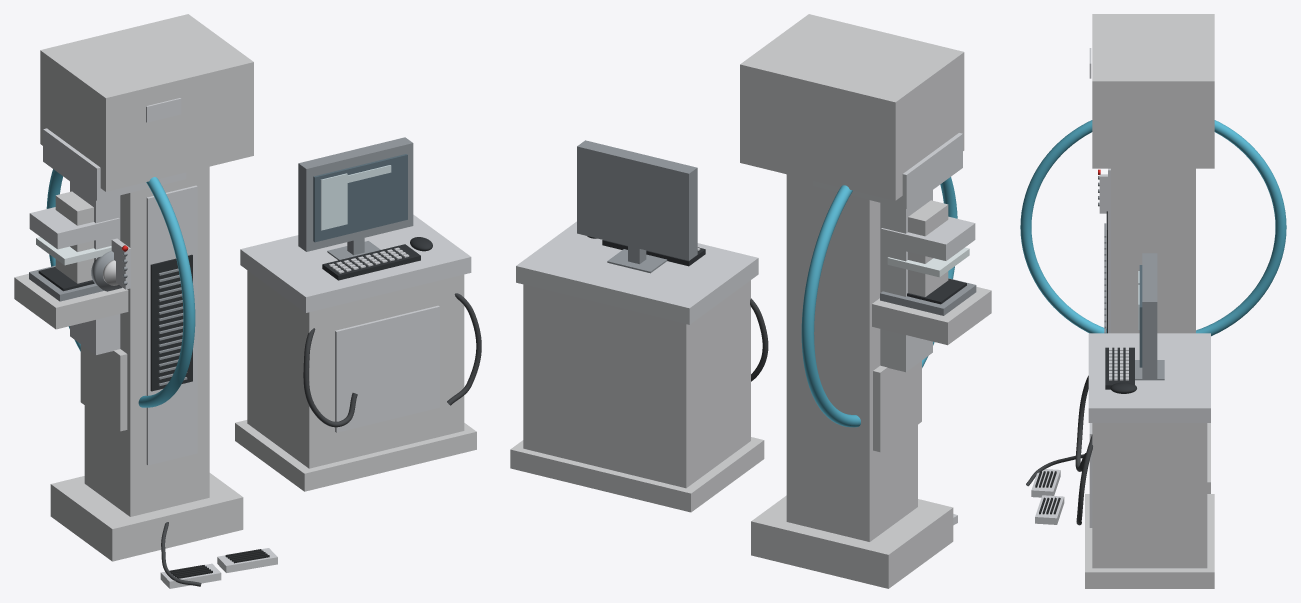
Rendered from mamography.glb.
3 views of the same model, side by side, from view 1: azimuth 30°, elevation 25°; view 2: azimuth 150°, elevation 25°; view 3: azimuth 270°, elevation 25° (orthographic). The views are drawn at different scales.
Visible parts, largest first — view 1: Upper X Ray Housing, Operator Console, Main Vertical Column, Console Front Panel, Console Desktop, Gantry Base, Rear Mechanical Panel, Console Base, Monitor Screen, Monitor Frame, Blue Support Arc, Arc Lower Cover (+15 smaller); view 2: Operator Console, Main Vertical Column, Upper X Ray Housing, Console Desktop, Monitor Frame, Gantry Base, Console Base, Blue Support Arc, Detector Vertical Arm, Breast Support Platform, Arc Lower Cover, X Ray Head Underside (+6 smaller); view 3: Upper X Ray Housing, Operator Console, Main Vertical Column, Console Desktop, Blue Support Arc, Console Base, Monitor Frame, Keyboard, Foot Pedal.001, Console Hanging Cable, Foot Pedal, Second Console Cable (+3 smaller).
Boxes of the visible parts, x1,y1,x2,y2 form: Upper X Ray Housing: [40, 14, 253, 191]; Operator Console: [247, 270, 464, 468]; Main Vertical Column: [84, 166, 209, 516]; Console Front Panel: [335, 305, 439, 432]; Console Desktop: [240, 214, 471, 312]; Gantry Base: [50, 473, 243, 561]; Rear Mechanical Panel: [146, 185, 197, 465]; Console Base: [235, 420, 476, 491]; Monitor Screen: [313, 154, 407, 242]; Monitor Frame: [298, 137, 413, 251]; Blue Support Arc: [46, 169, 195, 407]; Arc Lower Cover: [80, 344, 127, 431]; Operator Console: [523, 280, 750, 488]; Main Vertical Column: [786, 174, 917, 541]; Upper X Ray Housing: [740, 14, 964, 200]; Console Desktop: [516, 221, 758, 324]; Monitor Frame: [577, 140, 697, 260]; Gantry Base: [751, 495, 953, 588]; Console Base: [510, 437, 764, 512]; Blue Support Arc: [801, 177, 957, 427]; Detector Vertical Arm: [880, 190, 932, 372]; Breast Support Platform: [872, 286, 991, 345]; Arc Lower Cover: [873, 361, 921, 451]; X Ray Head Underside: [812, 133, 962, 208]; Upper X Ray Housing: [1092, 14, 1214, 168]; Operator Console: [1092, 423, 1207, 568]; Main Vertical Column: [1111, 168, 1195, 333]; Console Desktop: [1088, 333, 1210, 422]; Blue Support Arc: [1020, 120, 1286, 336]; Console Base: [1085, 494, 1214, 588]; Monitor Frame: [1142, 253, 1157, 379]; Keyboard: [1105, 347, 1134, 389]; Foot Pedal.001: [1035, 495, 1064, 524]; Console Hanging Cable: [1075, 375, 1088, 471]; Foot Pedal: [1031, 469, 1060, 497]; Second Console Cable: [1076, 435, 1092, 525].
Size of the model in its own units: 5.92 by 6.63 by 3.59.
